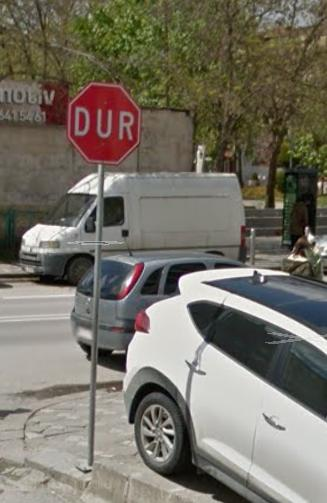stop: (69, 79, 139, 165)
